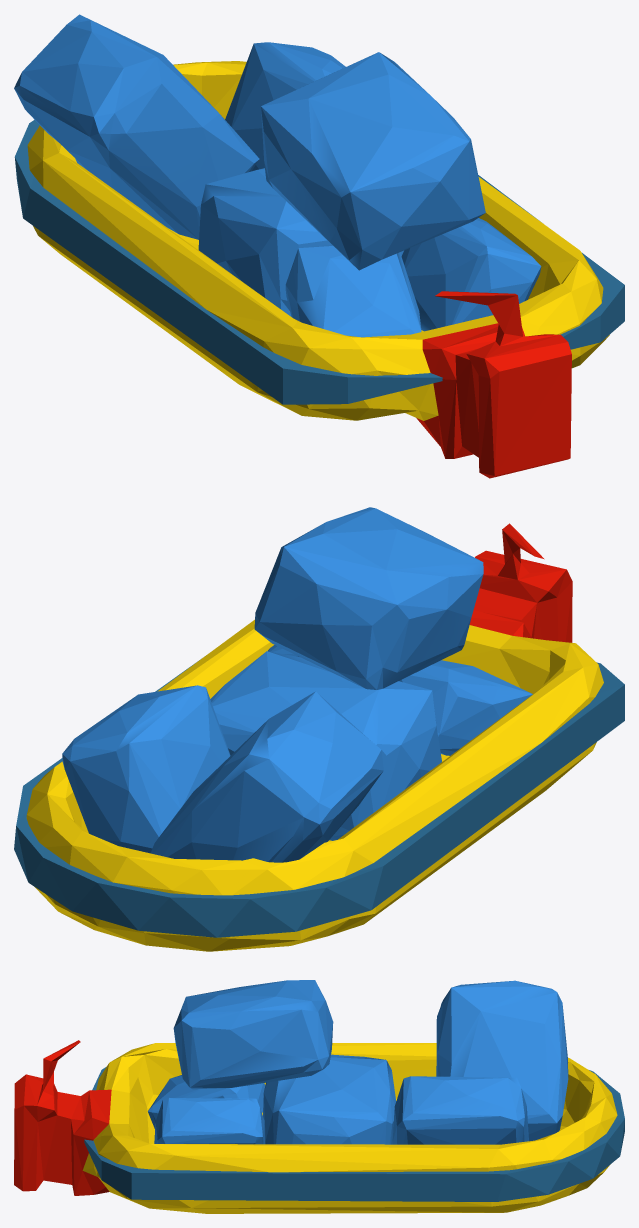
File: bezos_rubberdinghy.fbx
3 views of the same model, one above another, from view 1: azimuth 30°, elevation 25°; view 2: azimuth 150°, elevation 25°; view 3: azimuth 270°, elevation 25° (orthographic). The views are drawn at different scales.
Parts seen in each view (by area): view 1: Circle.003; view 2: Circle.003; view 3: Circle.003.
Boxes of the visible parts, x1,y1,x2,y2 form: Circle.003: [14, 14, 624, 478]; Circle.003: [14, 507, 624, 951]; Circle.003: [14, 980, 624, 1213].
Bounding box in the file's own units: 239 × 176 × 487.
